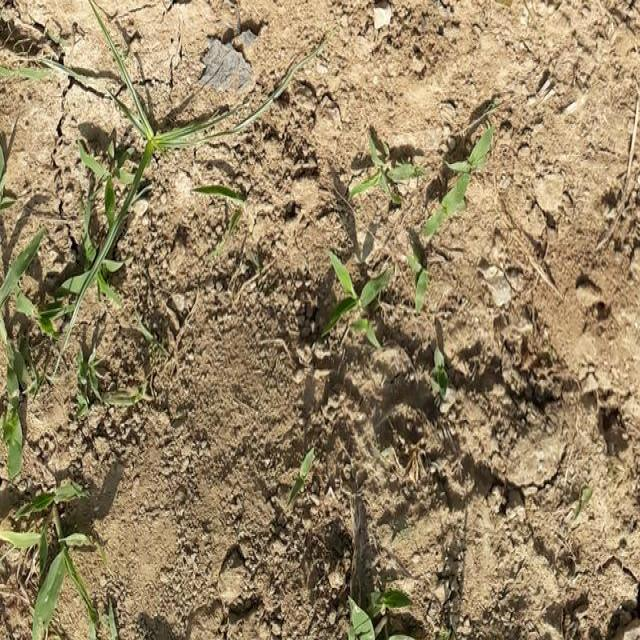weed: (0, 127, 203, 451), (320, 119, 497, 307), (10, 482, 99, 628), (214, 56, 338, 146), (88, 4, 147, 126), (3, 42, 69, 93), (338, 599, 398, 640), (196, 180, 247, 215), (291, 440, 316, 500), (564, 479, 592, 531), (429, 344, 448, 413)
